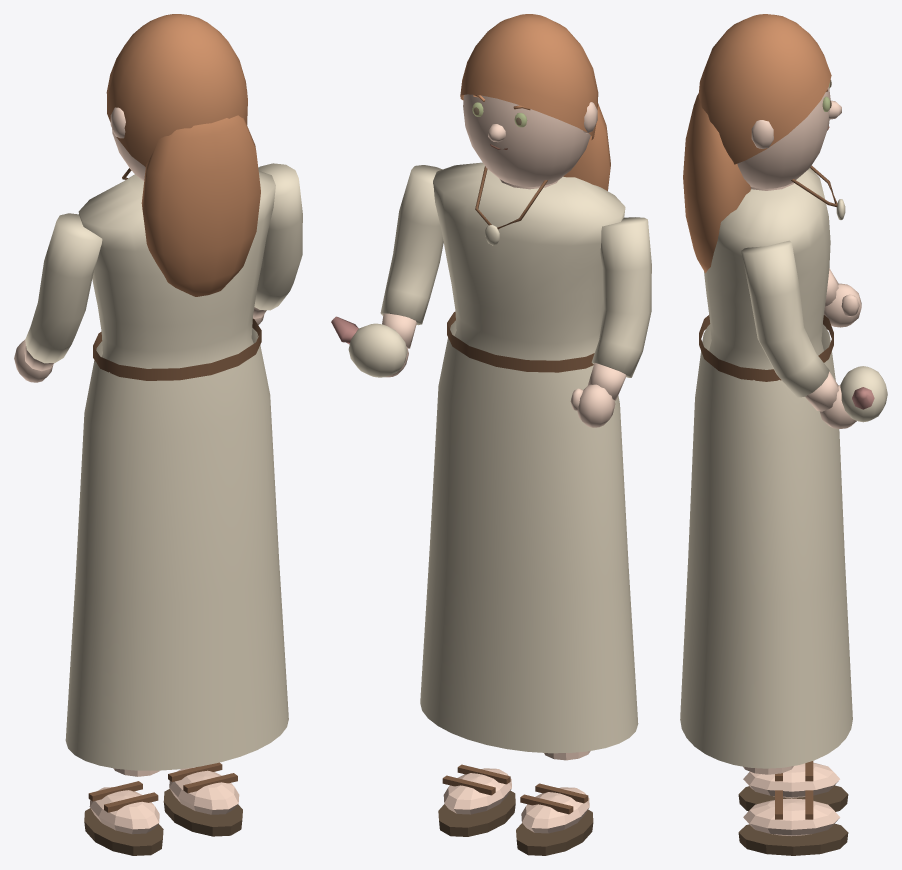
Rendered from SM_NPC_CORAL_ROSA.glb.
3 renders of one model, left to right at view 1: azimuth 30°, elevation 25°; view 2: azimuth 150°, elevation 25°; view 3: azimuth 270°, elevation 25°, orthographic. The views are drawn at different scales.
Visible parts, largest first — view 1: SM_NPC_CORAL_ROSA_BODY, SM_NPC_CORAL_ROSA_HAIR, SM_NPC_CORAL_ROSA_ARM_L, SM_NPC_CORAL_ROSA_ARM_R, SM_NPC_CORAL_ROSA_LEG_L, SM_NPC_CORAL_ROSA_LEG_R, SM_NPC_CORAL_ROSA_HEAD; view 2: SM_NPC_CORAL_ROSA_BODY, SM_NPC_CORAL_ROSA_HAIR, SM_NPC_CORAL_ROSA_ARM_R, SM_NPC_CORAL_ROSA_ARM_L, SM_NPC_CORAL_ROSA_HEAD, SM_NPC_CORAL_ROSA_LEG_L, SM_NPC_CORAL_ROSA_LEG_R; view 3: SM_NPC_CORAL_ROSA_BODY, SM_NPC_CORAL_ROSA_HAIR, SM_NPC_CORAL_ROSA_ARM_R, SM_NPC_CORAL_ROSA_LEG_R, SM_NPC_CORAL_ROSA_HEAD, SM_NPC_CORAL_ROSA_LEG_L, SM_NPC_CORAL_ROSA_ARM_L.
Part boxes in pixels (box(x1,y1,x2,y2)): SM_NPC_CORAL_ROSA_BODY: box(65, 168, 288, 770); SM_NPC_CORAL_ROSA_HAIR: box(106, 14, 260, 296); SM_NPC_CORAL_ROSA_ARM_L: box(14, 213, 102, 382); SM_NPC_CORAL_ROSA_ARM_R: box(253, 163, 302, 324); SM_NPC_CORAL_ROSA_LEG_L: box(84, 768, 163, 855); SM_NPC_CORAL_ROSA_LEG_R: box(163, 762, 242, 836); SM_NPC_CORAL_ROSA_HEAD: box(110, 90, 247, 181); SM_NPC_CORAL_ROSA_BODY: box(420, 162, 638, 753); SM_NPC_CORAL_ROSA_HAIR: box(460, 14, 610, 190); SM_NPC_CORAL_ROSA_ARM_R: box(331, 165, 443, 377); SM_NPC_CORAL_ROSA_ARM_L: box(570, 217, 651, 427); SM_NPC_CORAL_ROSA_HEAD: box(463, 94, 597, 186); SM_NPC_CORAL_ROSA_LEG_L: box(516, 751, 593, 855); SM_NPC_CORAL_ROSA_LEG_R: box(438, 764, 515, 836); SM_NPC_CORAL_ROSA_BODY: box(680, 165, 852, 768); SM_NPC_CORAL_ROSA_HAIR: box(683, 14, 831, 273); SM_NPC_CORAL_ROSA_ARM_R: box(741, 240, 887, 428); SM_NPC_CORAL_ROSA_LEG_R: box(738, 766, 848, 855); SM_NPC_CORAL_ROSA_HEAD: box(737, 86, 841, 188); SM_NPC_CORAL_ROSA_LEG_L: box(738, 761, 848, 811); SM_NPC_CORAL_ROSA_ARM_L: box(824, 268, 861, 327).
Bounding box in the file's own units: 0.6556 × 1.81 × 0.4243.
